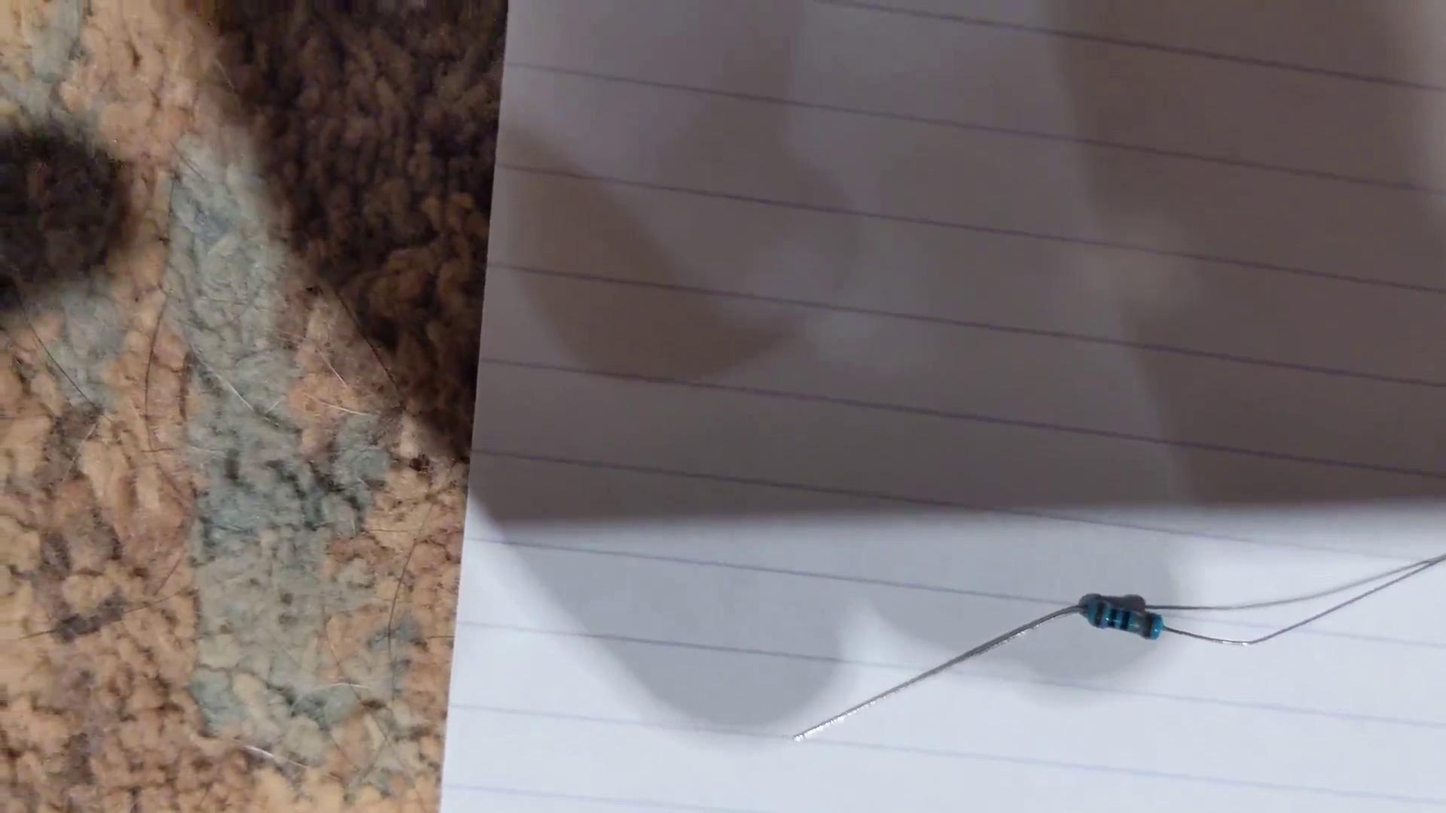resistor: (1084, 594, 1164, 646)
